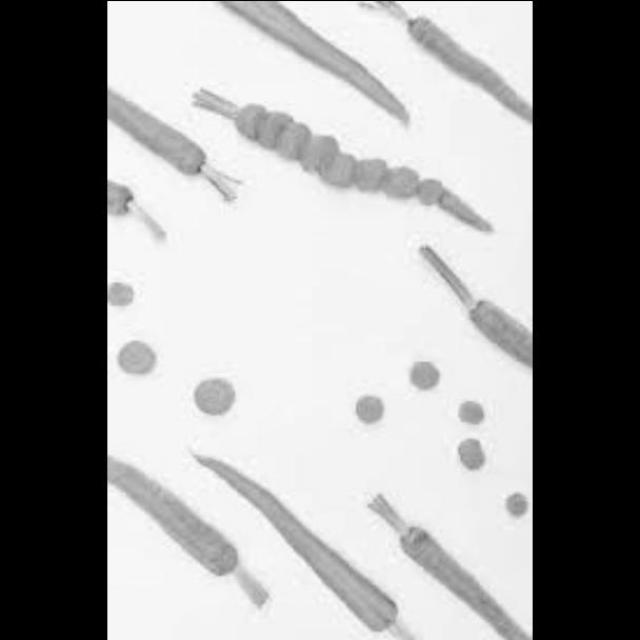ca rot: (183, 447, 402, 639), (225, 88, 488, 225), (212, 1, 412, 136), (105, 455, 262, 598), (353, 1, 531, 125), (374, 509, 532, 640), (106, 84, 229, 181), (456, 296, 532, 369), (177, 370, 244, 422), (108, 328, 157, 386), (339, 384, 389, 428), (403, 353, 443, 401), (490, 481, 530, 521), (454, 434, 490, 475), (451, 396, 494, 429), (106, 271, 136, 314), (106, 189, 136, 219)
